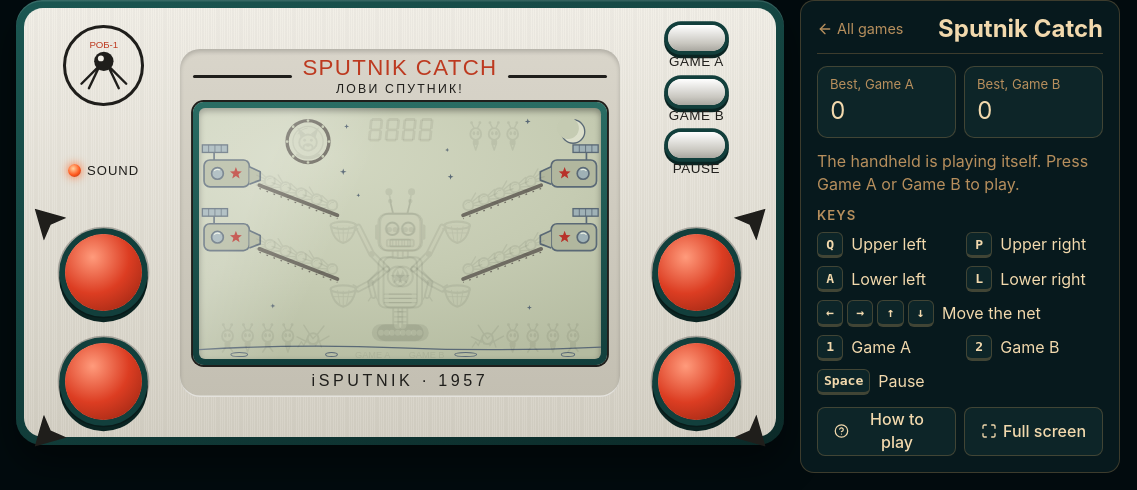
Test case: SputnikPage › pauses and carries on
Step 1. Press 2
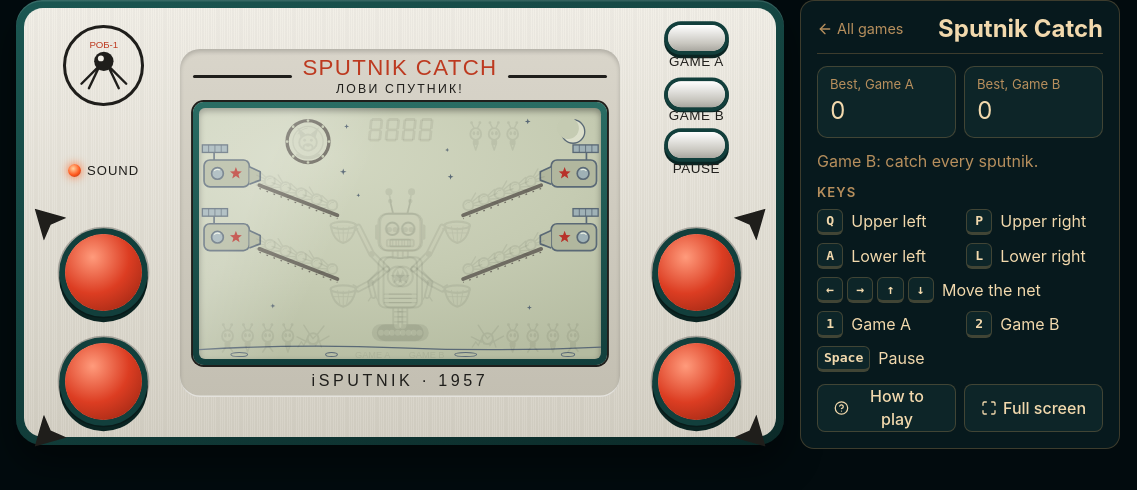
Result: the text "Game B: catch every sputnik." is shown at [817, 151, 1038, 171]
Step 2. Click the button named "Pause" → click(696, 145), box [668, 132, 725, 158]
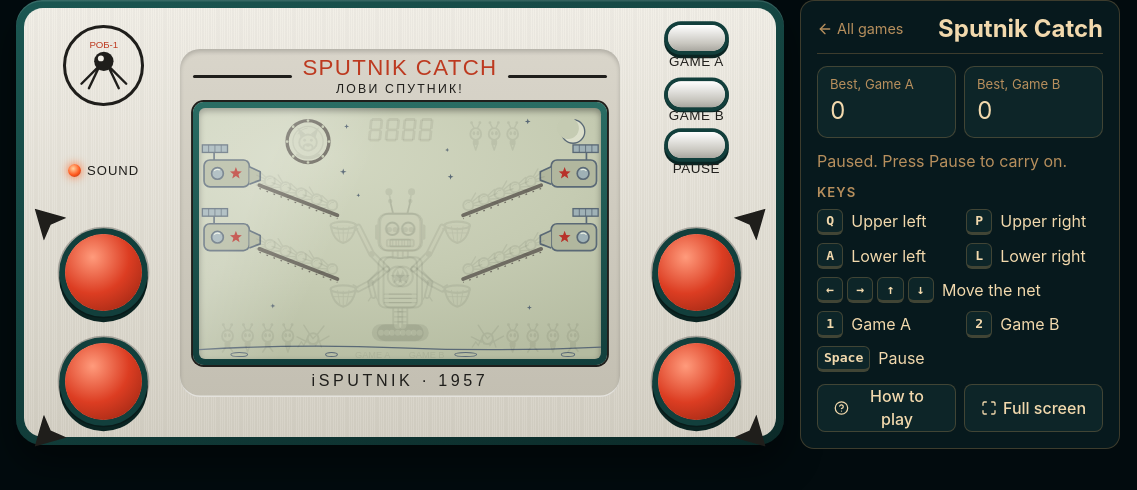
Result: the text "Paused. Press Pause to carry on." is shown at [817, 150, 1103, 173]
Step 3. Click the button named "Pause" → click(696, 145), box [668, 132, 725, 158]
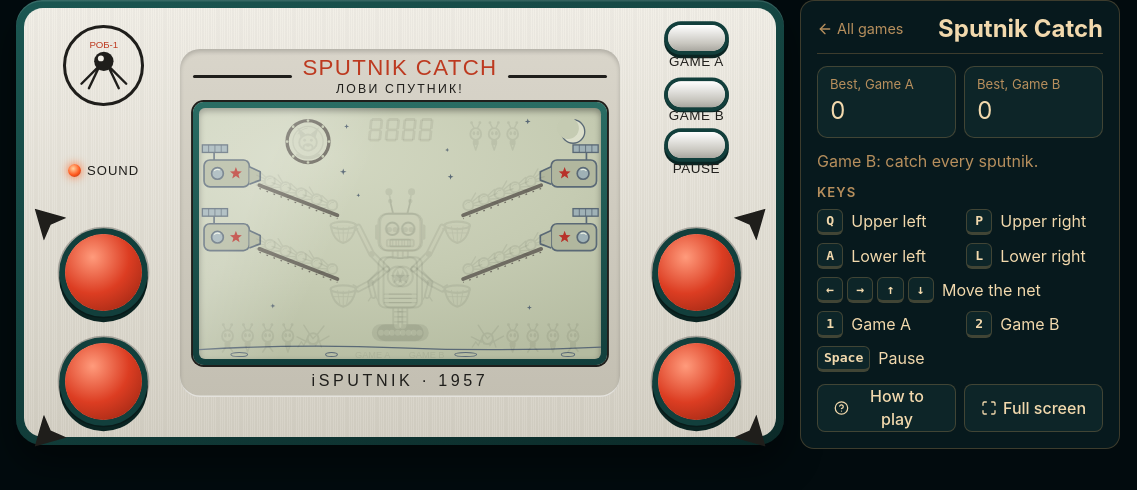
Result: the text "Game B: catch every sputnik." is shown at [817, 151, 1038, 171]
